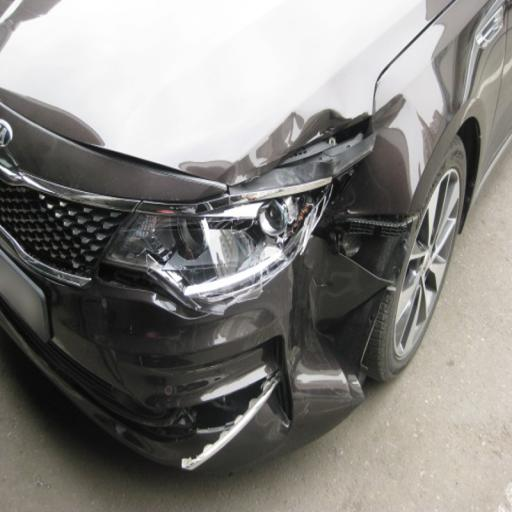broken: (116, 114, 379, 400)
